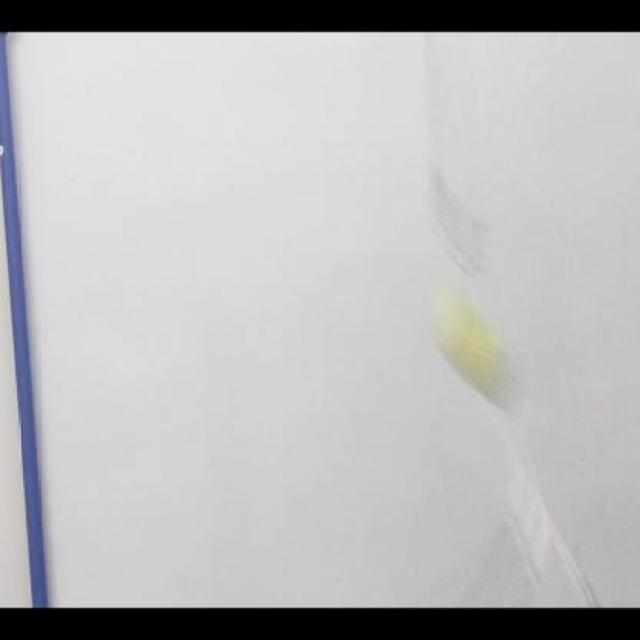baseball: (476, 286, 481, 416)
